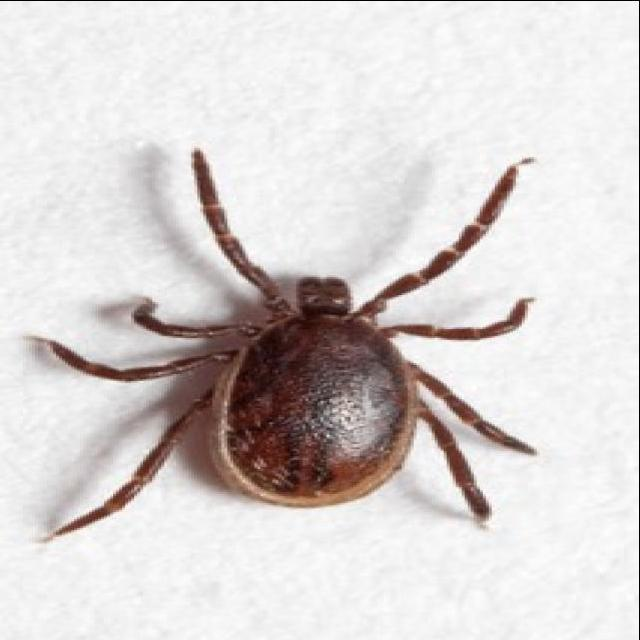Ixodes Ricinus-M: (45, 145, 535, 534)
